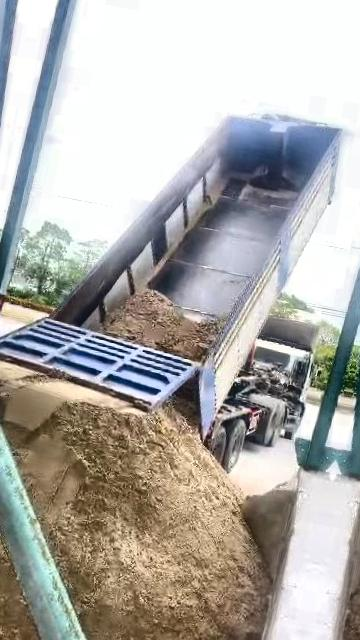sand: (7, 378, 269, 640), (0, 358, 141, 435), (0, 437, 43, 640), (102, 290, 222, 361), (242, 478, 296, 581)
